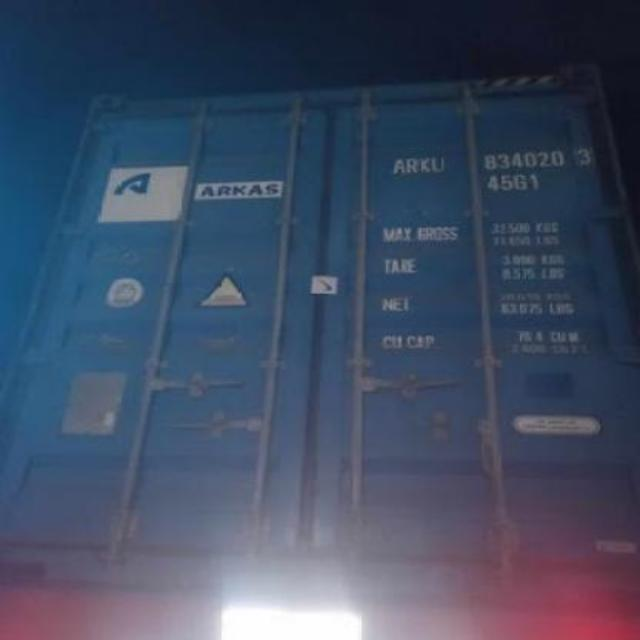0: (520, 144, 536, 170), (550, 142, 564, 166)
2: (534, 143, 550, 169)
3: (572, 142, 594, 166), (496, 148, 509, 172)
4: (506, 145, 522, 171)
8: (482, 146, 496, 174)
A: (391, 146, 404, 178)
K: (416, 148, 428, 176)
R: (402, 151, 418, 177)
U: (428, 148, 446, 174)
